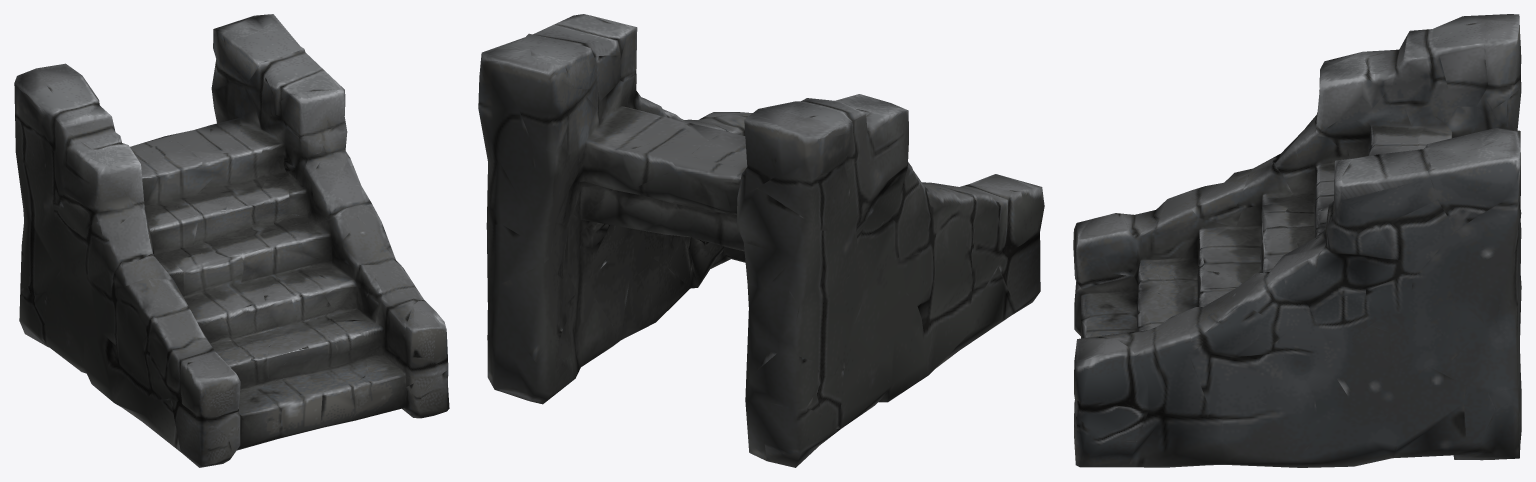
File: stairs_descending.glb
3 views of the same model, side by side, from view 1: azimuth 30°, elevation 25°; view 2: azimuth 150°, elevation 25°; view 3: azimuth 270°, elevation 25° (orthographic). The views are drawn at different scales.
Bounding box in the file's own units: 1.62 × 1.56 × 2.
1 material, 1 textured.
